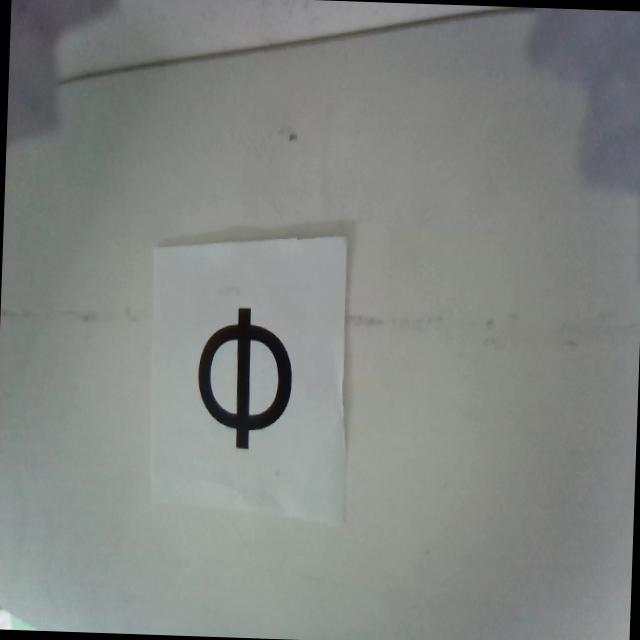F: (195, 304, 294, 453)
